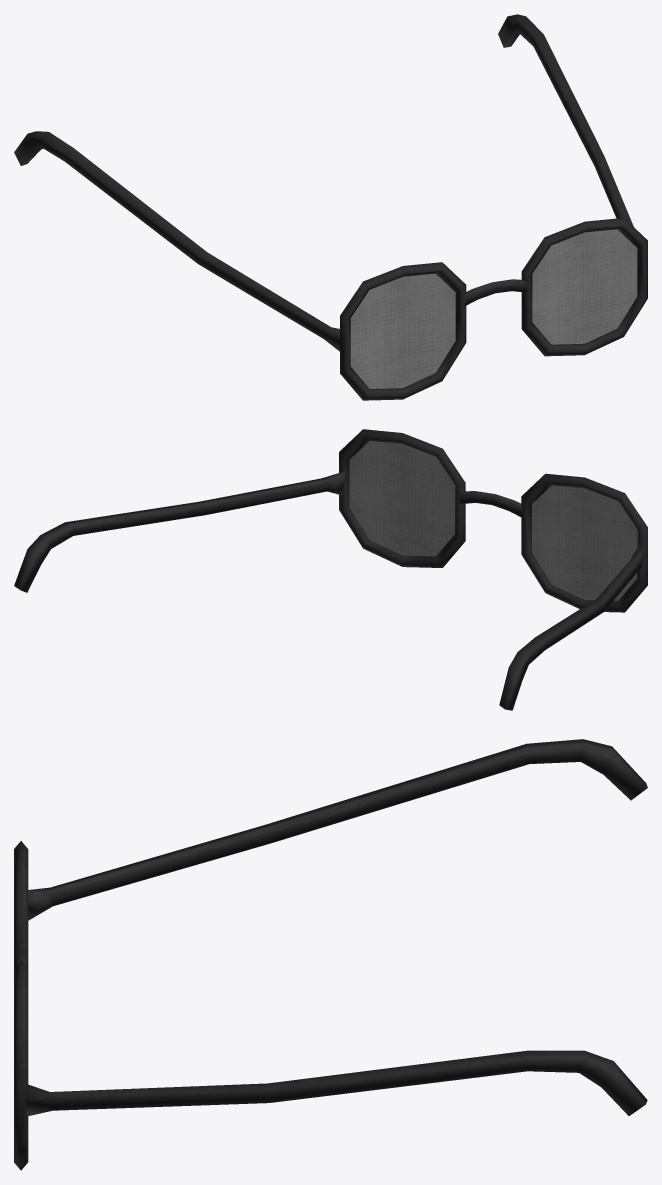
File: glasses2.fbx
3 views of the same model, one above another, from view 1: azimuth 30°, elevation 25°; view 2: azimuth 150°, elevation 25°; view 3: azimuth 270°, elevation 25° (orthographic). The views are drawn at different scales.
Visible parts, largest first — view 1: glasses_black_2; view 2: glasses_black_2; view 3: glasses_black_2.
Part boxes in pixels (x1,y1,x2,y2): glasses_black_2: [14, 14, 647, 400]; glasses_black_2: [14, 429, 647, 710]; glasses_black_2: [14, 739, 647, 1170].
Bounding box in the file's own units: 0.4648 × 0.1343 × 0.3876.
Materials: 2 (2 with a texture image).
